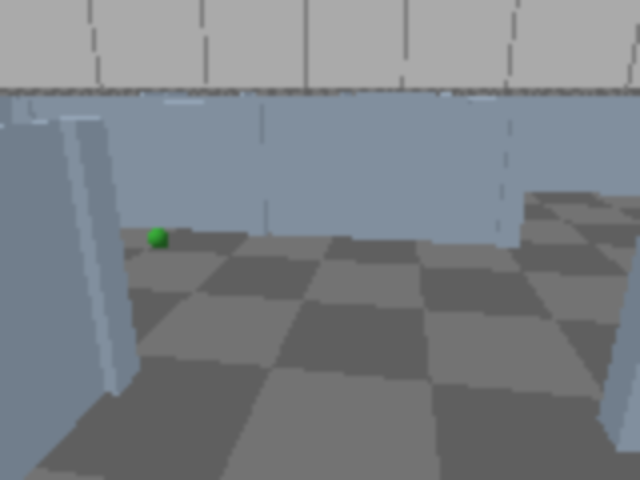puck: (142, 225, 175, 253)
